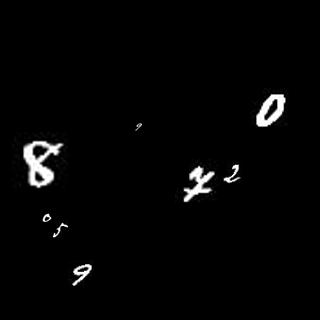eight: (25, 138, 68, 189)
five: (51, 221, 71, 240)
nine: (69, 261, 93, 286), (136, 122, 143, 133)
seven: (183, 161, 215, 204)
two: (221, 164, 245, 183)
zero: (253, 89, 291, 129), (41, 210, 60, 226)
